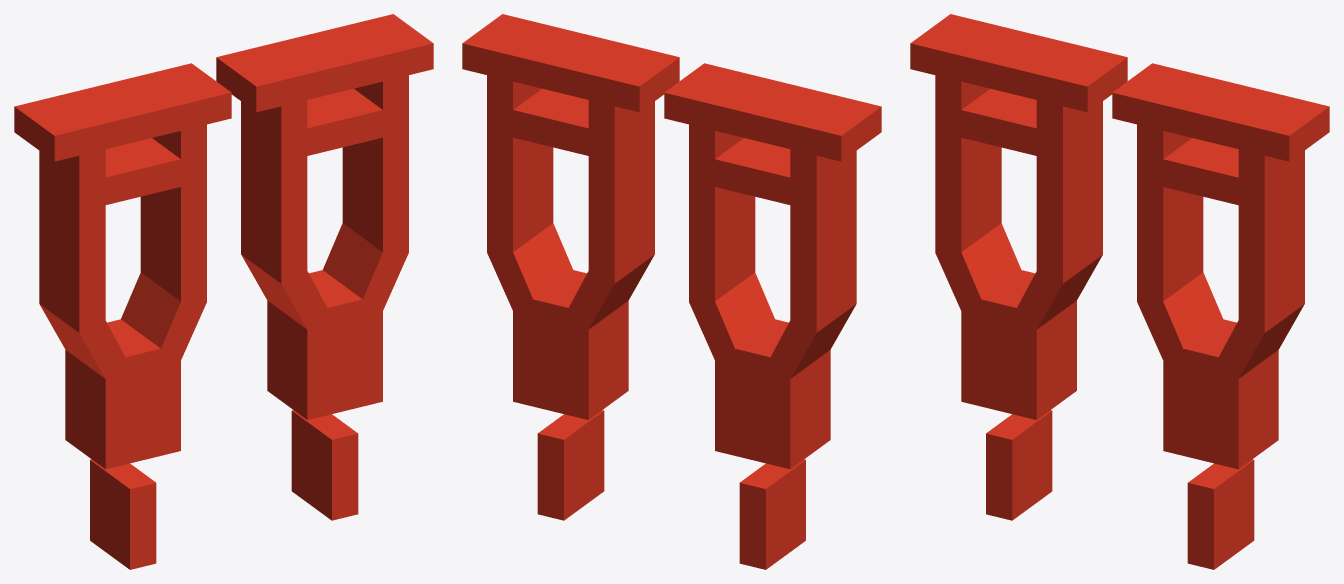
Rendered from Icon_Crutches.fbx.
3 renders of one model, left to right at view 1: azimuth 30°, elevation 25°; view 2: azimuth 150°, elevation 25°; view 3: azimuth 330°, elevation 25°, orthographic.
Visible parts, largest first — view 1: Icon_Crutches; view 2: Icon_Crutches; view 3: Icon_Crutches.
Boxes of the visible parts, x1,y1,x2,y2 form: Icon_Crutches: (14, 14, 433, 569); Icon_Crutches: (462, 14, 881, 569); Icon_Crutches: (910, 14, 1329, 569).
Size of the model in its own units: 65.74 by 74.98 by 12.06.
